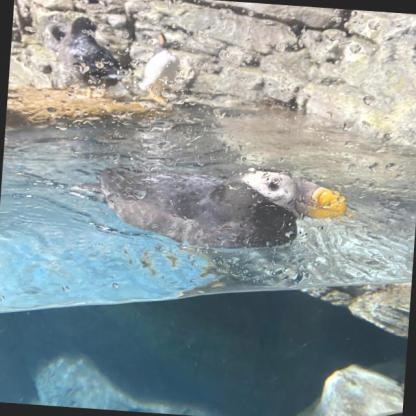puffin: (68, 154, 350, 257), (55, 15, 133, 96), (41, 21, 100, 91), (137, 30, 180, 104)
